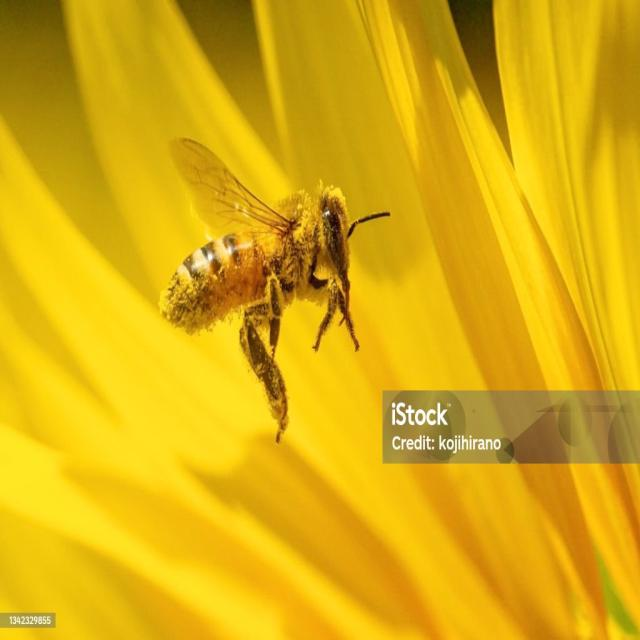bees: (160, 134, 392, 447)
